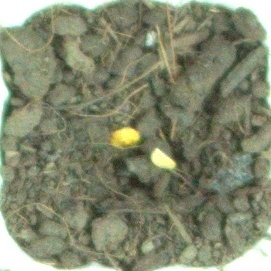chilli seed: (147, 145, 179, 172), (108, 126, 144, 150)
